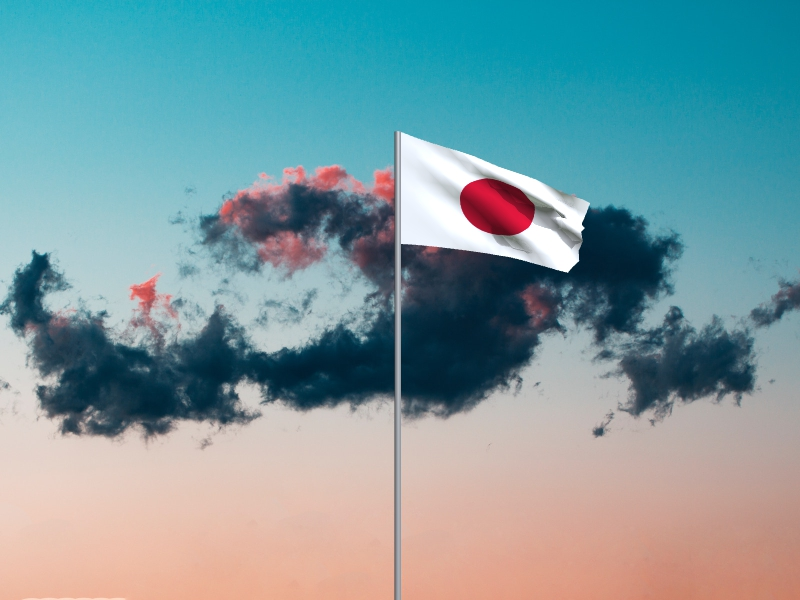jp: (401, 132, 591, 274)
